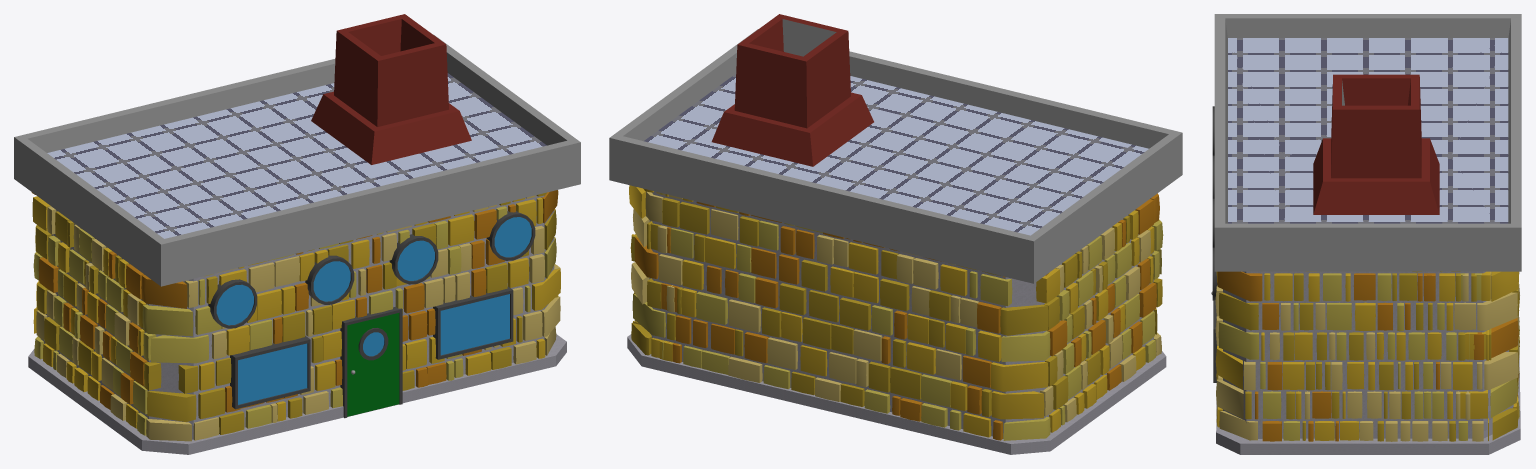
File: OaksLab.FBX
3 views of the same model, side by side, from view 1: azimuth 30°, elevation 25°; view 2: azimuth 150°, elevation 25°; view 3: azimuth 270°, elevation 25° (orthographic). The views are drawn at different scales.
Parts seen in each view (by area): view 1: Box002, Wall001, Line001, Line003, Object001, Box017, Box016, Tube005, Tube004, Tube003, Tube002, Box003; view 2: Box002, Wall001, Line001, Line003; view 3: Box002, Wall001, Line001, Line003.
Part boxes in pixels (box(x1,y1,x2,y2)): Box002: box(14, 14, 580, 286); Wall001: box(31, 190, 560, 441); Line001: box(41, 194, 554, 439); Line003: box(28, 334, 566, 454); Object001: box(347, 313, 399, 416); Box017: box(230, 336, 310, 409); Box016: box(433, 286, 513, 359); Tube005: box(208, 279, 257, 328); Tube004: box(305, 255, 354, 304); Tube003: box(389, 234, 438, 284); Tube002: box(486, 211, 535, 260); Box003: box(340, 307, 402, 418); Box002: box(609, 14, 1182, 283); Wall001: box(629, 185, 1163, 440); Line001: box(649, 191, 1153, 438); Line003: box(627, 334, 1166, 454); Box002: box(1214, 14, 1521, 271); Wall001: box(1215, 271, 1519, 441); Line001: box(1223, 271, 1513, 438); Line003: box(1216, 355, 1520, 454).
Size of the model in its own units: 43.45 by 28.97 by 26.54.
